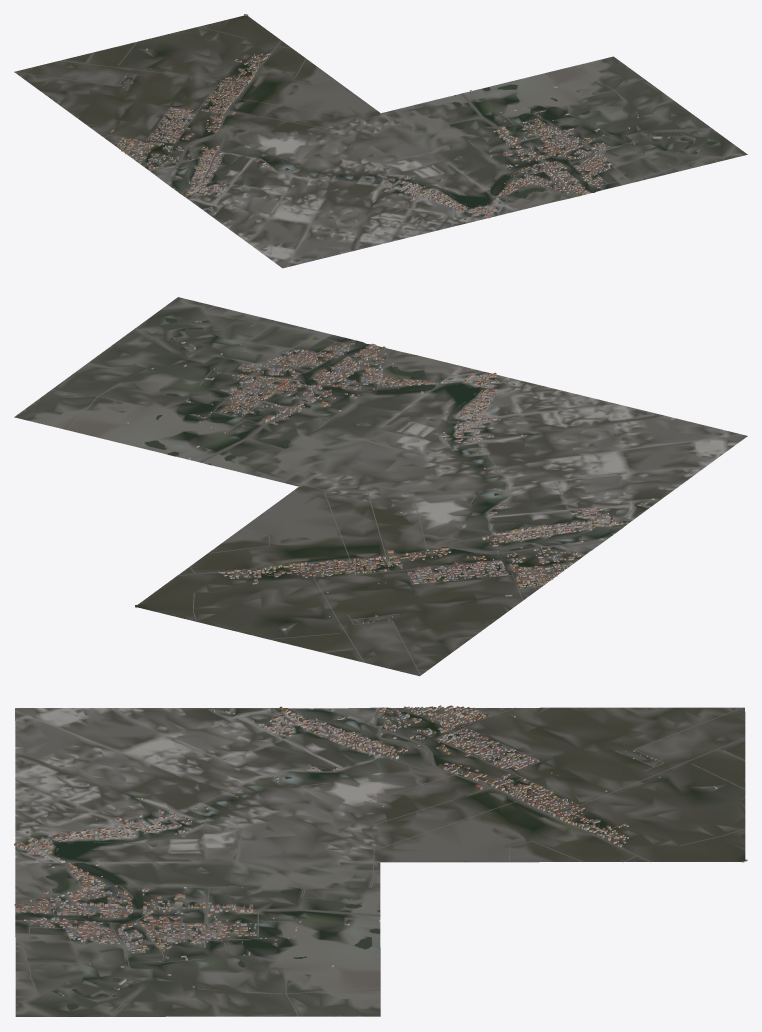
3 renders of one model, top to bottom at view 1: azimuth 30°, elevation 25°; view 2: azimuth 150°, elevation 25°; view 3: azimuth 270°, elevation 25°, orthographic. The views are drawn at different scales.
Visible parts, largest first — view 1: ground, buildings, roads, water; view 2: ground, buildings, roads, water; view 3: ground, buildings, roads, water.
Part boxes in pixels (<box>): ground: <box>14,15,747,268</box>; buildings: <box>110,14,699,218</box>; roads: <box>15,27,717,262</box>; water: <box>180,84,716,219</box>; ground: <box>14,297,747,676</box>; buildings: <box>126,320,654,630</box>; roads: <box>50,306,727,675</box>; water: <box>145,318,624,551</box>; ground: <box>15,707,745,1016</box>; buildings: <box>14,705,747,996</box>; roads: <box>15,707,745,1016</box>; water: <box>16,708,426,1009</box>.
Size of the model in its own units: 2815 by 21.51 by 2819.
